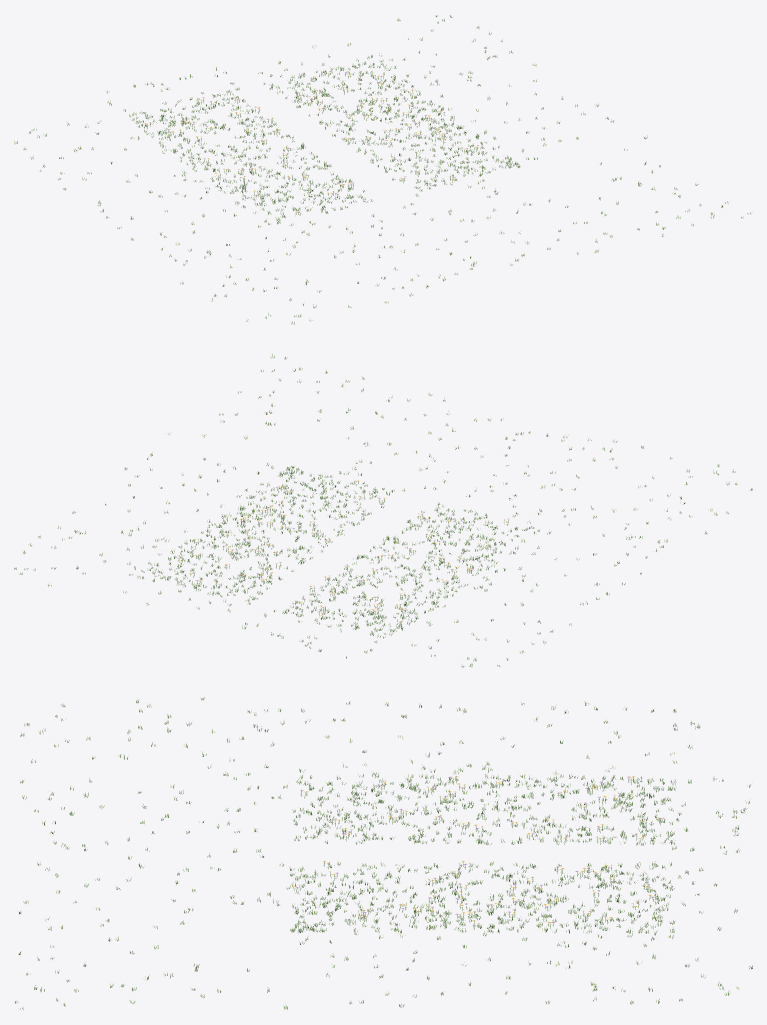
File: meadow.glb
The picture shows the model from 3 angles, top to bottom: view 1: azimuth 30°, elevation 25°; view 2: azimuth 150°, elevation 25°; view 3: azimuth 270°, elevation 25°; orthographic projection. The views are drawn at different scales.
Visible parts, largest first — view 1: Grass_sector_0_0, Grass_sector_-1_0, Grass_sector_-1_1, Grass_sector_0_-1, Grass_sector_0_1, Grass_sector_-1_-1; view 2: Grass_sector_0_0, Grass_sector_-1_0, Grass_sector_-1_1, Grass_sector_0_-1, Grass_sector_0_1, Grass_sector_-1_-1; view 3: Grass_sector_0_0, Grass_sector_-1_0, Grass_sector_-1_1, Grass_sector_0_-1, Grass_sector_0_1, Grass_sector_-1_-1, Wildflowers_sector_0_0, Wildflowers_sector_-1_0.
Part boxes in pixels (x1,y1,x2,y2): Grass_sector_0_0: (308, 85, 479, 163); Grass_sector_-1_0: (164, 122, 333, 198); Grass_sector_-1_1: (106, 67, 265, 147); Grass_sector_0_-1: (377, 141, 520, 220); Grass_sector_0_1: (258, 43, 405, 108); Grass_sector_-1_-1: (236, 175, 415, 243); Grass_sector_0_0: (178, 495, 359, 571); Grass_sector_-1_0: (327, 530, 497, 607); Grass_sector_-1_1: (242, 582, 433, 658); Grass_sector_0_-1: (256, 460, 448, 520); Grass_sector_0_1: (123, 549, 282, 611); Grass_sector_-1_-1: (404, 479, 564, 554); Grass_sector_0_0: (383, 861, 569, 933); Grass_sector_-1_0: (382, 774, 570, 844); Grass_sector_-1_1: (568, 774, 750, 854); Grass_sector_0_-1: (207, 853, 385, 933); Grass_sector_0_1: (568, 861, 737, 933); Grass_sector_-1_-1: (198, 773, 383, 852); Wildflowers_sector_0_0: (398, 861, 564, 929); Wildflowers_sector_-1_0: (383, 776, 567, 844).
Size of the model in its own units: 56.11 by 0.626 by 56.13.
